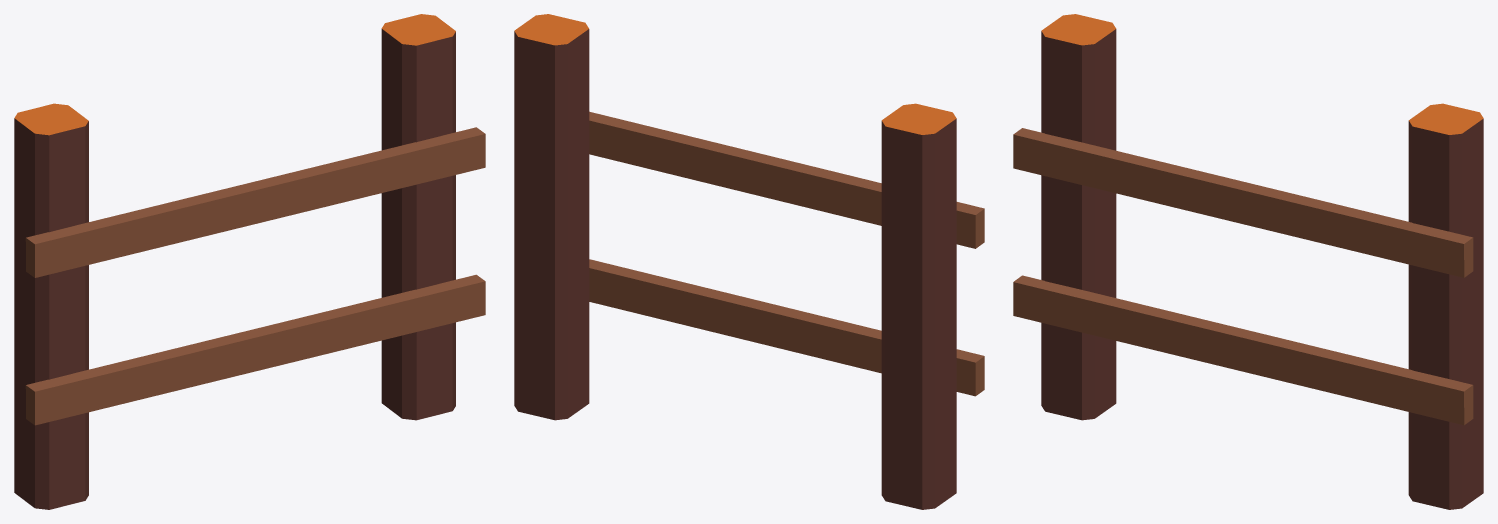
The model's file is Fance_double_support.fbx.
3 renders of one model, left to right at view 1: azimuth 30°, elevation 25°; view 2: azimuth 150°, elevation 25°; view 3: azimuth 330°, elevation 25°, orthographic.
Parts seen in each view (by area): view 1: fence; view 2: fence; view 3: fence.
Boxes of the visible parts, x1=… form: fence: x1=14, y1=14, x2=485, y2=509; fence: x1=514, y1=14, x2=984, y2=509; fence: x1=1013, y1=14, x2=1483, y2=509.
Bounding box in the file's own units: 80.6 × 64.02 × 12.41.
